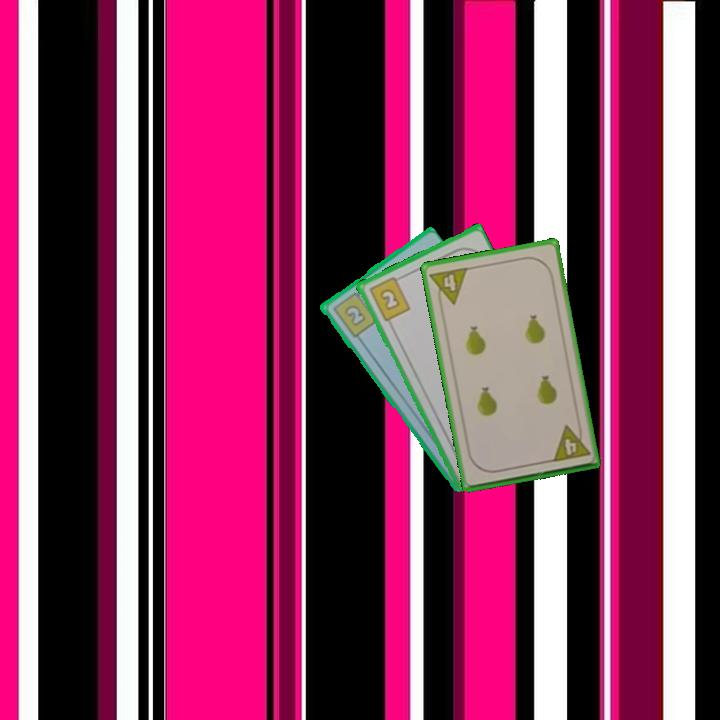2b: (329, 287, 379, 340), (365, 273, 413, 324)
4p: (426, 264, 471, 309), (548, 420, 593, 465)
